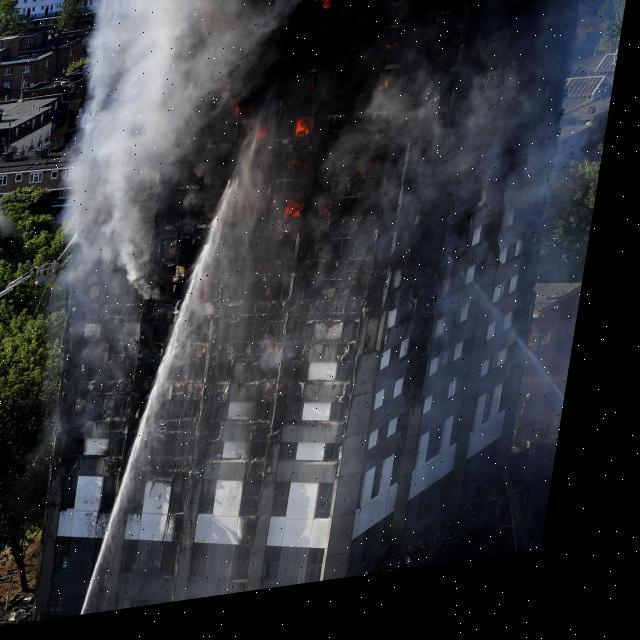Fire: (213, 0, 414, 289)
